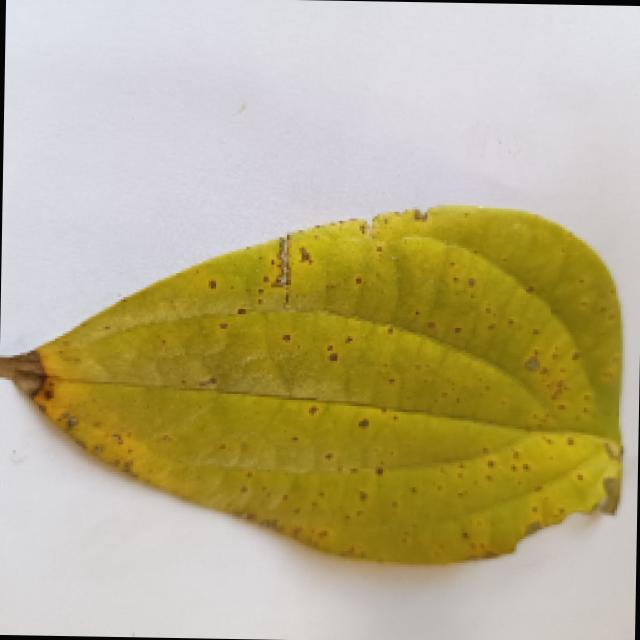slow-decline: (0, 174, 617, 575)
